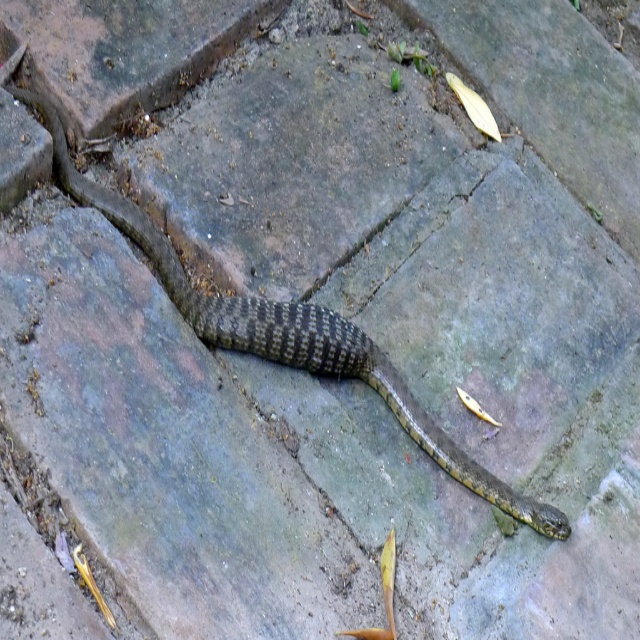Snake: (0, 47, 570, 543)
